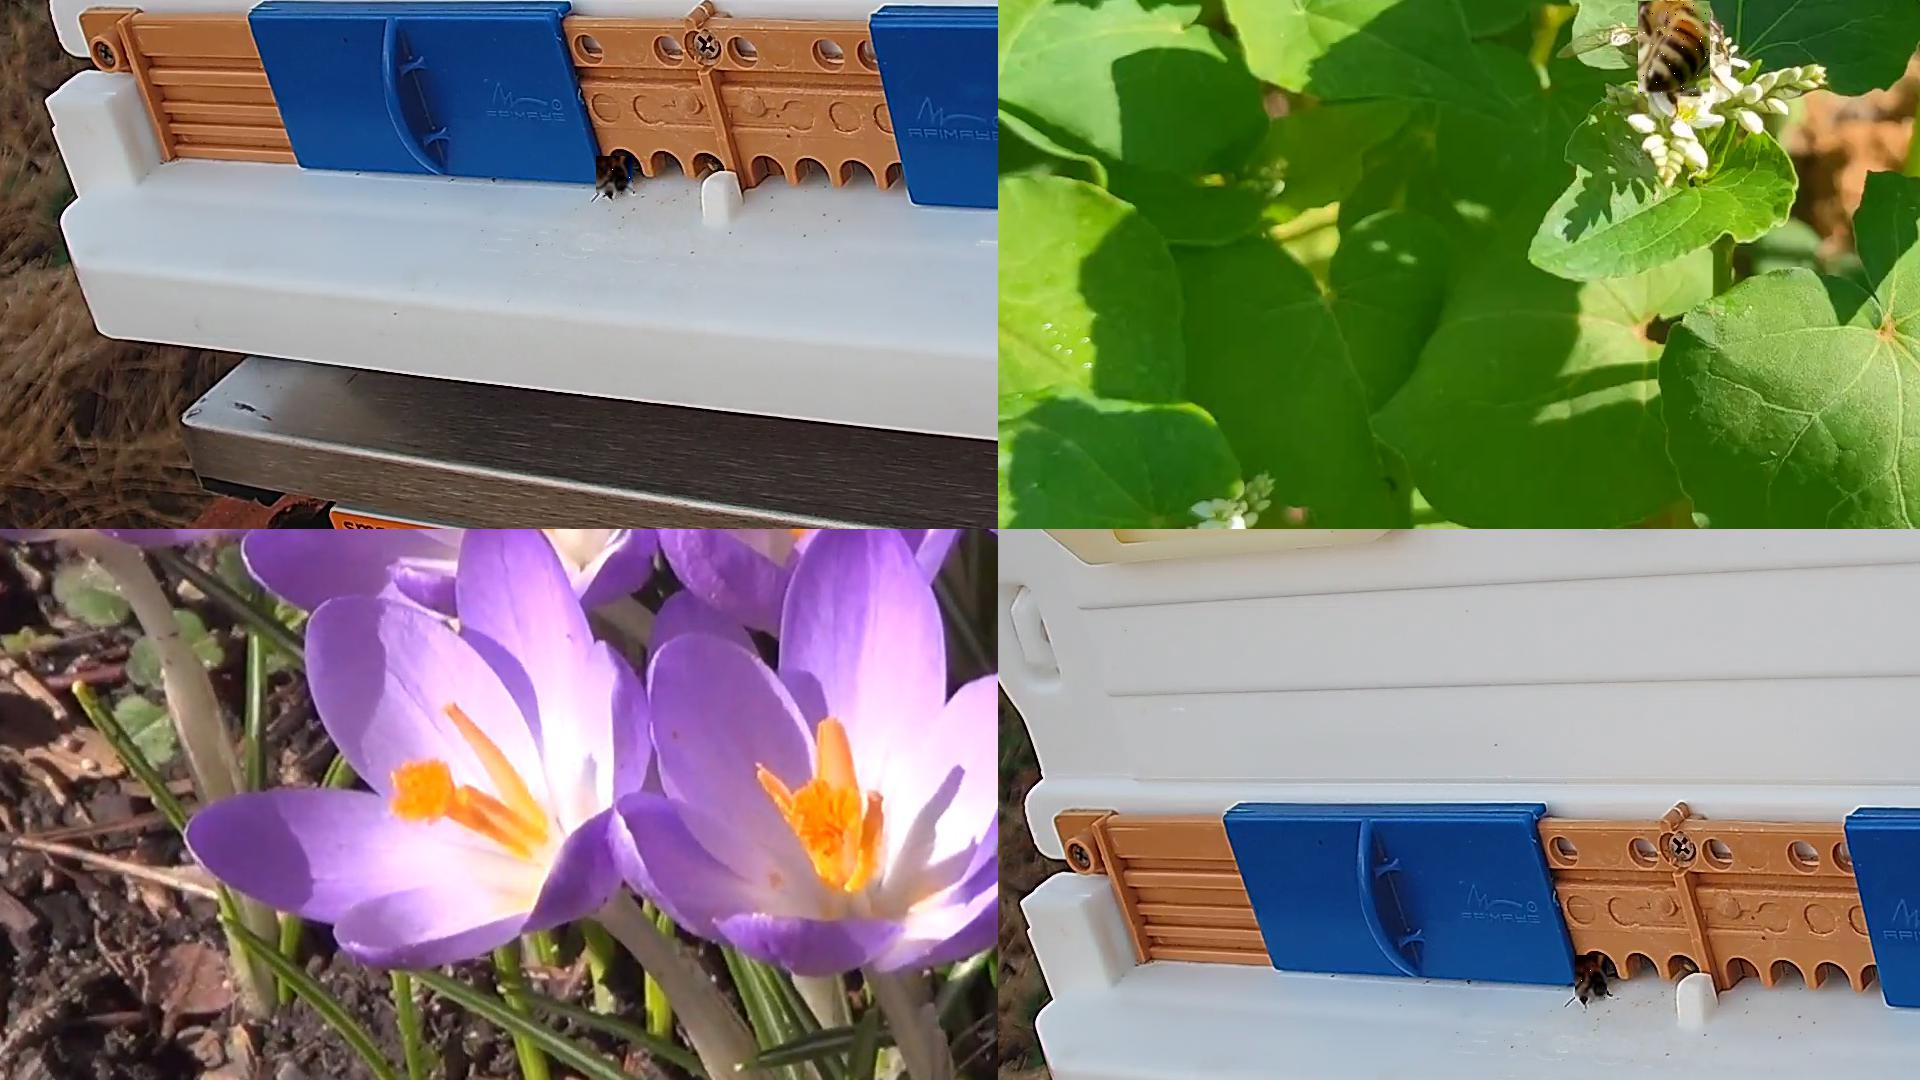bee: (1638, 1, 1712, 96), (1576, 956, 1609, 1001), (596, 157, 634, 195)
